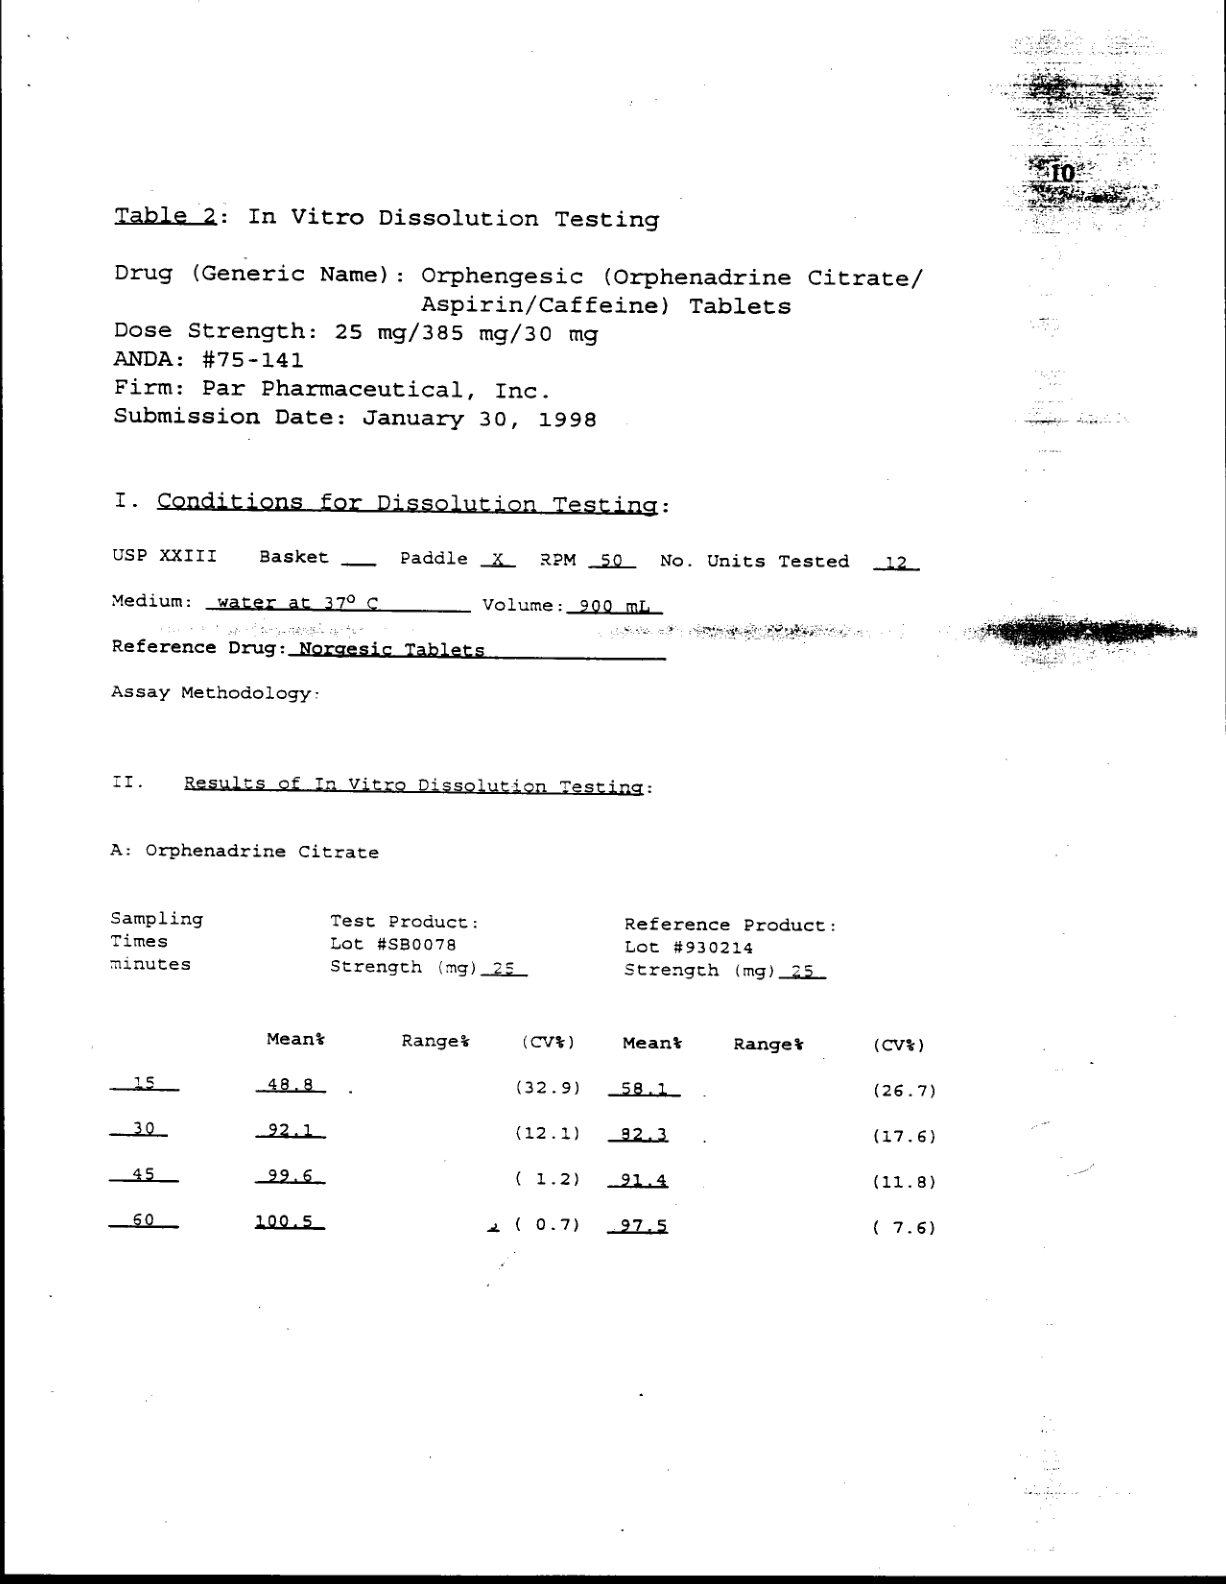nolines: (102, 1031, 939, 1236), (105, 906, 839, 984)
